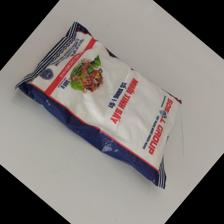Salt: (11, 17, 187, 192)
